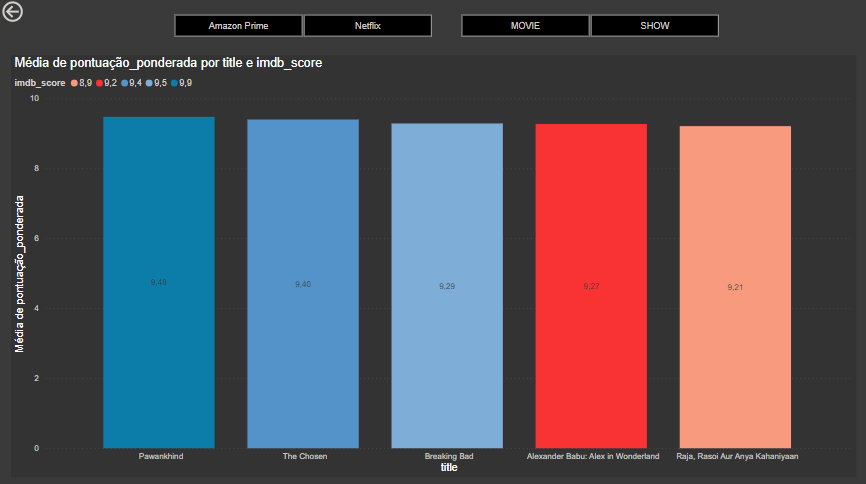

What the dashboard file says about the page in this screenshot:
{"tool":"powerbi","page":{"name":"Página 3","canvas":[1280,720],"ordinal":2},"visuals":[{"type":"actionButton","box":[0,0,100,40],"z":0},{"type":"columnChart","fields":{"Category":["amazon_netflix_limpo.title"],"Y":["Avg(amazon_netflix_limpo.pontuação_ponderada)"],"Series":["amazon_netflix_limpo.imdb_score"]},"box":[17.3,83.5,1242.7,620.6],"z":1000},{"type":"slicer","fields":{"Values":["amazon_netflix_limpo.streaming"]},"box":[234.7,20.2,421.9,40.3],"z":2000},{"type":"slicer","fields":{"Values":["amazon_netflix_limpo.type"]},"box":[656.6,20.2,421.9,40.3],"z":3000}]}

Visuals, with their boxes on the page's 1280x720 design canvas (x1, y1, x2, y2). These are canvas units, not pixel positions in the 866x484 screenshot, which may show the page scaled, cropped or inside an application window:
actionButton: select_region(0, 0, 100, 40)
columnChart - amazon_netflix_limpo.title x Avg(amazon_netflix_limpo.pontuação_ponderada): select_region(17, 84, 1260, 704)
slicer - amazon_netflix_limpo.streaming: select_region(235, 20, 657, 60)
slicer - amazon_netflix_limpo.type: select_region(657, 20, 1078, 60)
